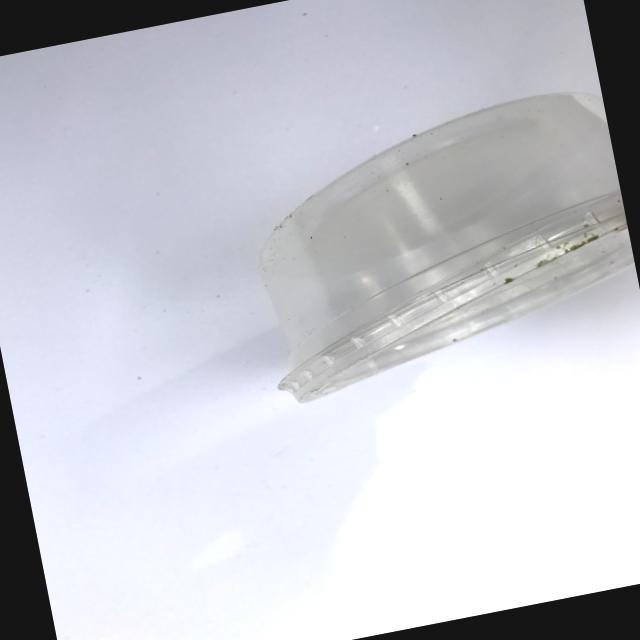Plastic: (200, 66, 640, 436)
